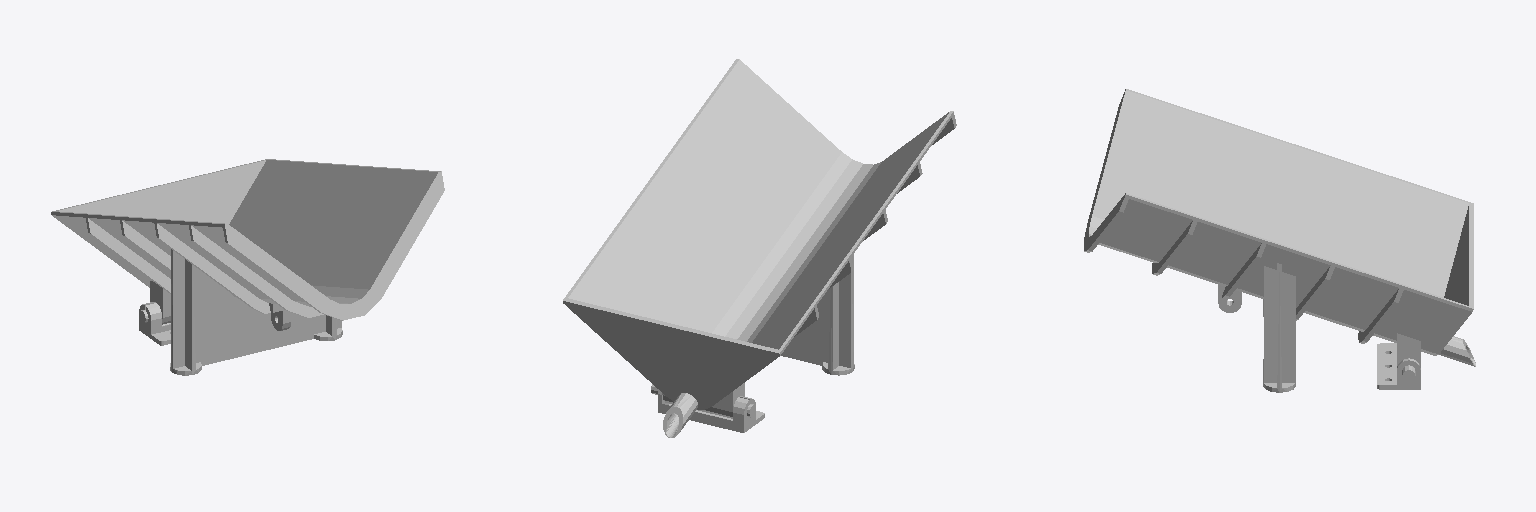
Rendered from drink_catcher.obj.
The picture shows the model from 3 angles: view 1: azimuth 30°, elevation 25°; view 2: azimuth 150°, elevation 25°; view 3: azimuth 270°, elevation 25°; orthographic projection.
Parts seen in each view (by area): view 1: mesh56, mesh111, mesh55, mesh59, mesh67, mesh77, mesh122, mesh44, mesh33, mesh73, mesh65, mesh121 (+5 smaller); view 2: mesh56, mesh34, mesh57, mesh58, mesh54, mesh114, mesh118, mesh121, mesh74, mesh11; view 3: mesh58, mesh32, mesh64, mesh45, mesh72, mesh98, mesh54, mesh105, mesh81, mesh102, mesh55, mesh109 (+4 smaller).
Part boxes in pixels (x1,y1,x2,y2): mesh56: (229,160,437,289); mesh111: (196,268,325,365); mesh55: (59,160,265,223); mesh59: (225,171,444,320); mesh67: (191,226,323,317); mesh77: (157,224,270,313); mesh122: (173,251,184,368); mesh44: (88,218,170,292); mesh33: (52,215,151,287); mesh73: (157,223,268,298); mesh65: (191,225,304,301); mesh121: (170,249,201,375); mesh56: (568,59,841,332); mesh34: (563,301,779,409); mesh57: (712,152,880,342); mesh58: (752,112,948,349); mesh54: (563,59,953,353); mesh114: (781,290,827,365); mesh118: (839,273,850,367); mesh121: (822,254,854,375); mesh74: (780,112,956,355); mesh11: (658,394,743,432); mesh58: (1092,90,1468,297); mesh32: (1375,290,1471,353); mesh64: (1100,199,1192,261); mesh45: (1306,267,1398,329); mesh72: (1169,222,1260,284); mesh98: (1237,244,1330,307); mesh54: (1126,89,1473,308); mesh105: (1282,272,1295,382); mesh81: (1119,195,1473,311); mesh102: (1264,266,1276,382); mesh55: (1444,206,1468,305); mesh109: (1263,263,1295,392).
Bounding box in the file's own units: 0.1542 × 0.1556 × 0.2417.